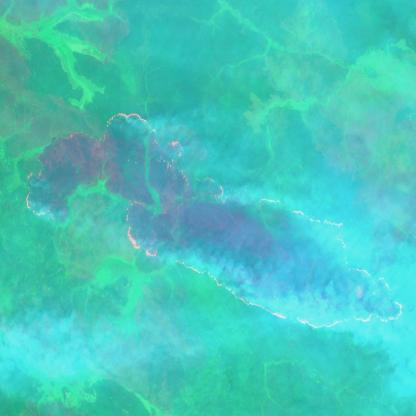fire: (0, 104, 416, 333)
